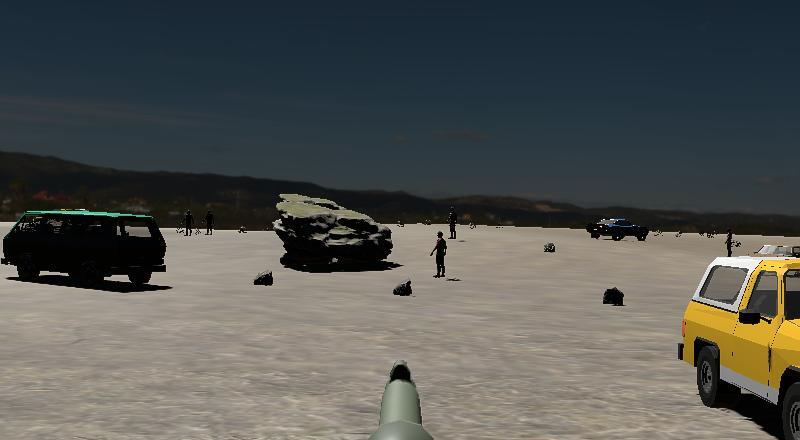Human: (428, 228, 450, 281)
car: (676, 253, 800, 439), (0, 205, 172, 293), (584, 214, 651, 243), (585, 215, 649, 243)
